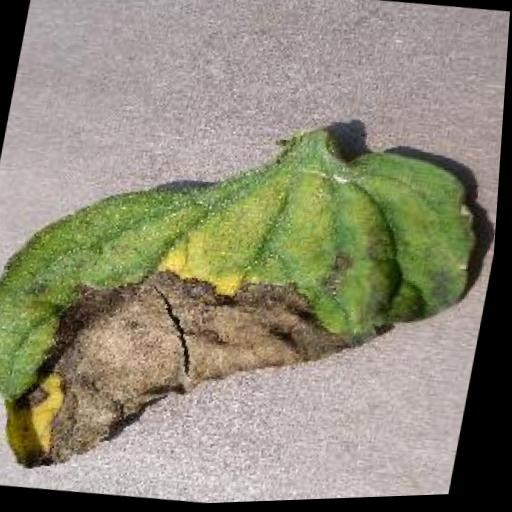Late Blight: (0, 103, 496, 512)
